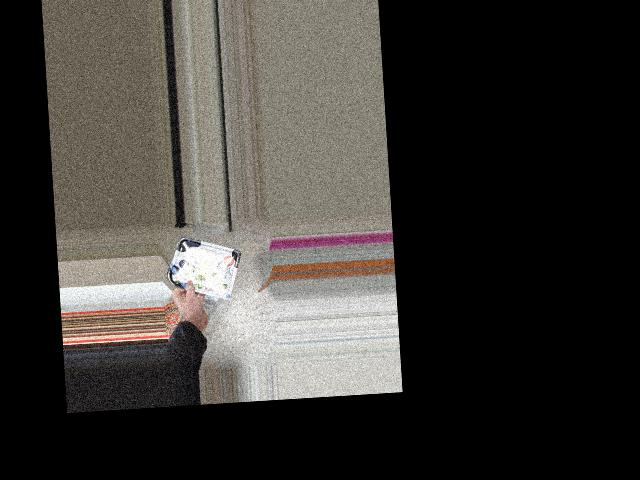cheese: (169, 241, 234, 291)
